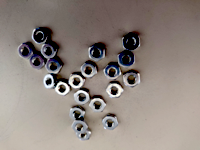nut: (122, 33, 141, 51), (80, 61, 98, 79), (118, 51, 135, 68), (123, 71, 140, 88), (88, 44, 105, 61), (68, 73, 85, 90), (106, 83, 124, 99), (32, 27, 48, 45), (75, 87, 90, 106), (102, 114, 118, 131), (89, 97, 106, 113), (46, 58, 62, 75), (105, 64, 121, 80), (41, 43, 57, 59), (70, 107, 87, 122), (18, 43, 33, 60), (71, 120, 89, 134), (29, 55, 45, 70), (56, 80, 70, 96), (43, 75, 57, 90), (75, 131, 92, 141)
